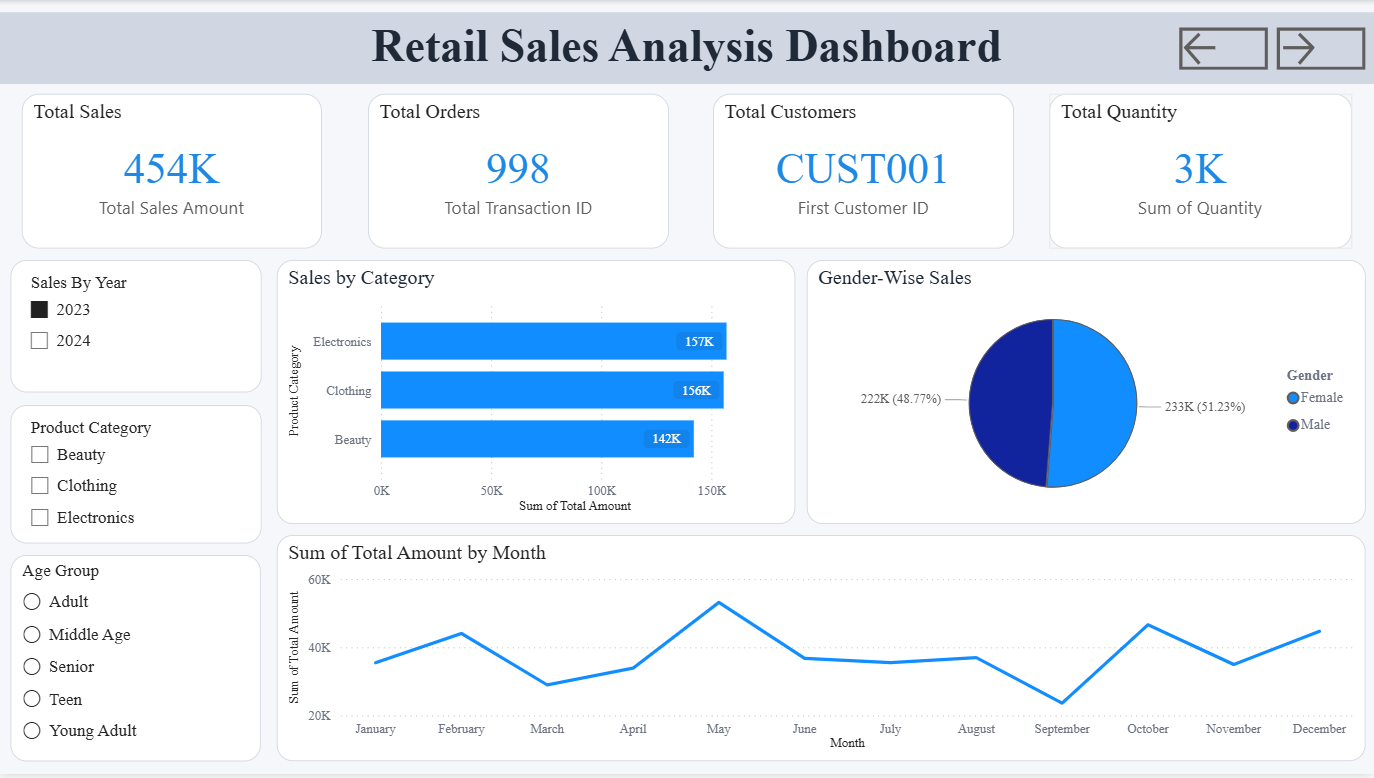

What the dashboard file says about the page in this screenshot:
{"tool":"powerbi","page":{"name":"Sales Overview","canvas":[1280,720],"ordinal":0},"visuals":[{"type":"cardVisual","title":"Total Sales","fields":{"Data":["Sum(cleaned_retail_data.Total Amount)"]},"box":[22.1,87.2,279.1,144.2],"z":0},{"type":"cardVisual","title":"Total Orders","fields":{"Data":["CountNonNull(cleaned_retail_data.Transaction ID)"]},"box":[344.2,87.2,280.2,144.2],"z":1000},{"type":"cardVisual","title":"Total Customers","fields":{"Data":["Min(cleaned_retail_data.Customer ID)"]},"box":[665.1,87.2,280.2,144.2],"z":2000},{"type":"cardVisual","title":"Total Quantity","fields":{"Data":["Sum(cleaned_retail_data.Quantity)"]},"box":[977.9,87.2,281.4,144.2],"z":3000},{"type":"clusteredBarChart","title":"Sales by Category","fields":{"Category":["cleaned_retail_data.Product Category"],"Y":["Sum(cleaned_retail_data.Total Amount)"]},"box":[259.3,241.9,482.6,245.3],"z":4000},{"type":"pieChart","title":"Gender-Wise Sales","fields":{"Category":["cleaned_retail_data.Gender"],"Y":["Sum(cleaned_retail_data.Total Amount)"]},"box":[752.3,241.9,519.8,245.3],"z":5000},{"type":"slicer","title":"Sales By Years","fields":{"Values":["cleaned_retail_data.Year"]},"box":[11.6,241.9,233.7,123.3],"z":6000},{"type":"slicer","fields":{"Values":["cleaned_retail_data.Product Category"]},"box":[11.6,376.7,233.7,129.1],"z":7000},{"type":"listSlicer","fields":{"Values":["cleaned_retail_data.Age Group"]},"box":[11.6,516.3,232.6,191.9],"z":8000},{"type":"lineChart","fields":{"Category":["cleaned_retail_data.Date.Variation.Date Hierarchy.Month"],"Y":["Sum(cleaned_retail_data.Total Amount)"]},"box":[259.3,497.7,1012.8,210.5],"z":9000},{"type":"textbox","box":[1.2,11.6,1279.1,66.3],"z":10000},{"type":"actionButton","title":"Back","box":[1098.8,25.6,82.6,39.5],"z":11000},{"type":"actionButton","box":[1189.5,25.6,82.6,39.5],"z":12000}]}

Visuals, with their boxes in screenshot pixels (x1, y1, x2, y2), scaled from the page's 1280x720 canvas onto the 1374x778 screenshot:
"Total Sales" cardVisual: {"left": 24, "top": 94, "right": 323, "bottom": 250}
"Total Orders" cardVisual: {"left": 369, "top": 94, "right": 670, "bottom": 250}
"Total Customers" cardVisual: {"left": 714, "top": 94, "right": 1015, "bottom": 250}
"Total Quantity" cardVisual: {"left": 1050, "top": 94, "right": 1352, "bottom": 250}
"Sales by Category" clusteredBarChart: {"left": 278, "top": 261, "right": 796, "bottom": 526}
"Gender-Wise Sales" pieChart: {"left": 808, "top": 261, "right": 1366, "bottom": 526}
"Sales By Years" slicer: {"left": 12, "top": 261, "right": 263, "bottom": 395}
slicer - cleaned_retail_data.Product Category: {"left": 12, "top": 407, "right": 263, "bottom": 547}
listSlicer - cleaned_retail_data.Age Group: {"left": 12, "top": 558, "right": 262, "bottom": 765}
lineChart - cleaned_retail_data.Date.Variation.Date Hierarchy.Month x Sum(cleaned_retail_data.Total Amount): {"left": 278, "top": 538, "right": 1366, "bottom": 765}
textbox: {"left": 1, "top": 13, "right": 1373, "bottom": 84}
"Back" actionButton: {"left": 1179, "top": 28, "right": 1268, "bottom": 70}
actionButton: {"left": 1277, "top": 28, "right": 1366, "bottom": 70}
